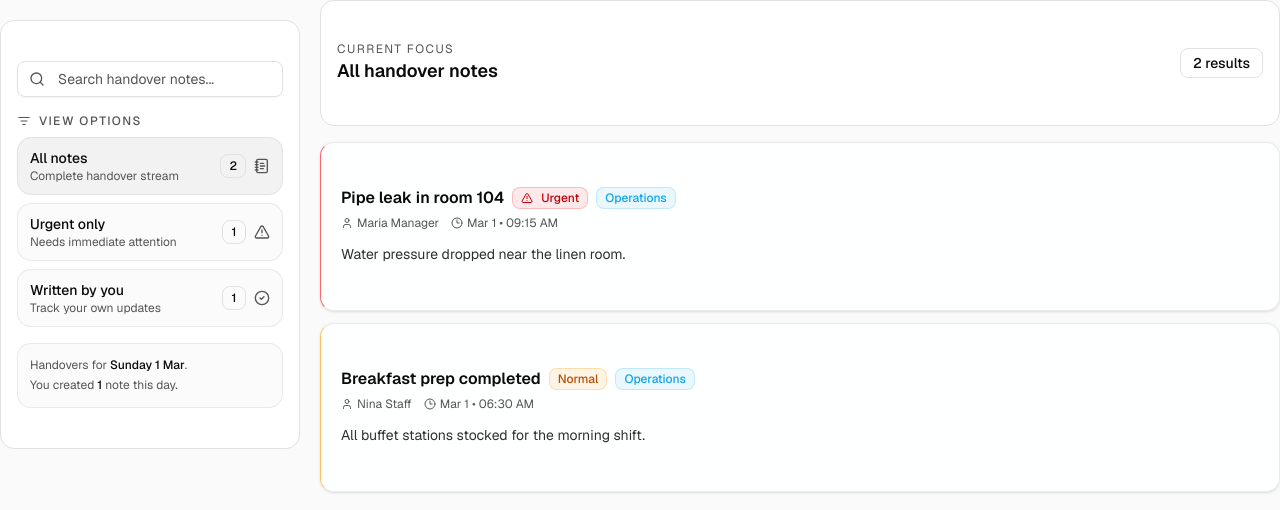
it: NotesList › renders notes and filters by search query
The width and height of the screenshot is (1280, 510).
Expected: the heading "Pipe leak in room 104" is shown, x1=341 y1=188 x2=504 y2=208
Expected: the heading "Breakfast prep completed" is shown, x1=341 y1=369 x2=541 y2=389
Type "pipe" into the field with placeholder "Search handover notes..." at (150, 79), box x1=17 y1=61 x2=283 y2=97
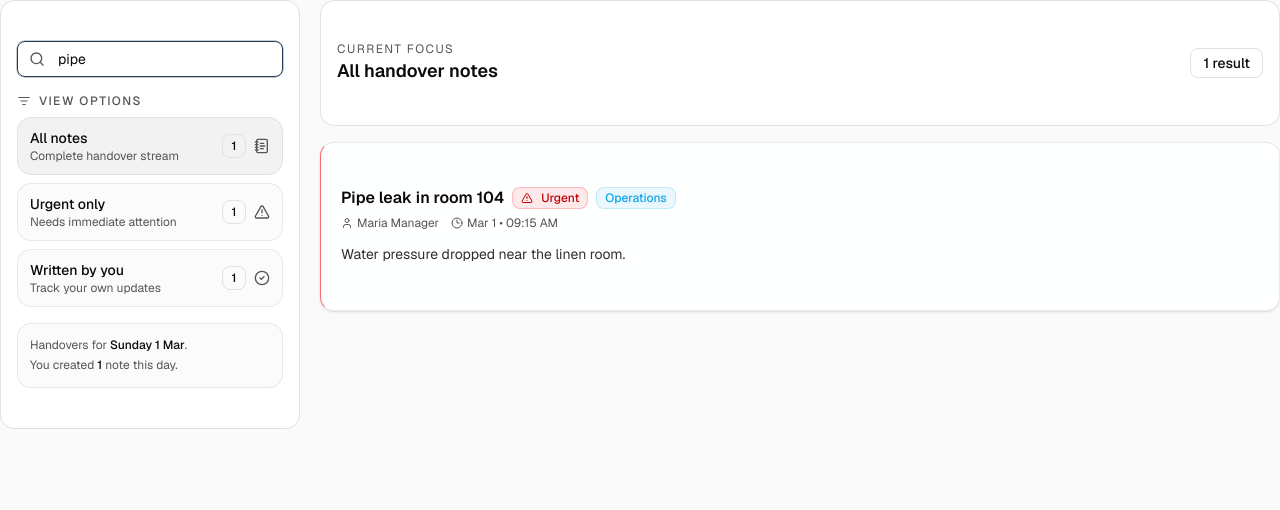
Expected: the heading "Pipe leak in room 104" is shown, x1=341 y1=188 x2=504 y2=208
Result: the heading "Breakfast prep completed" is gone
